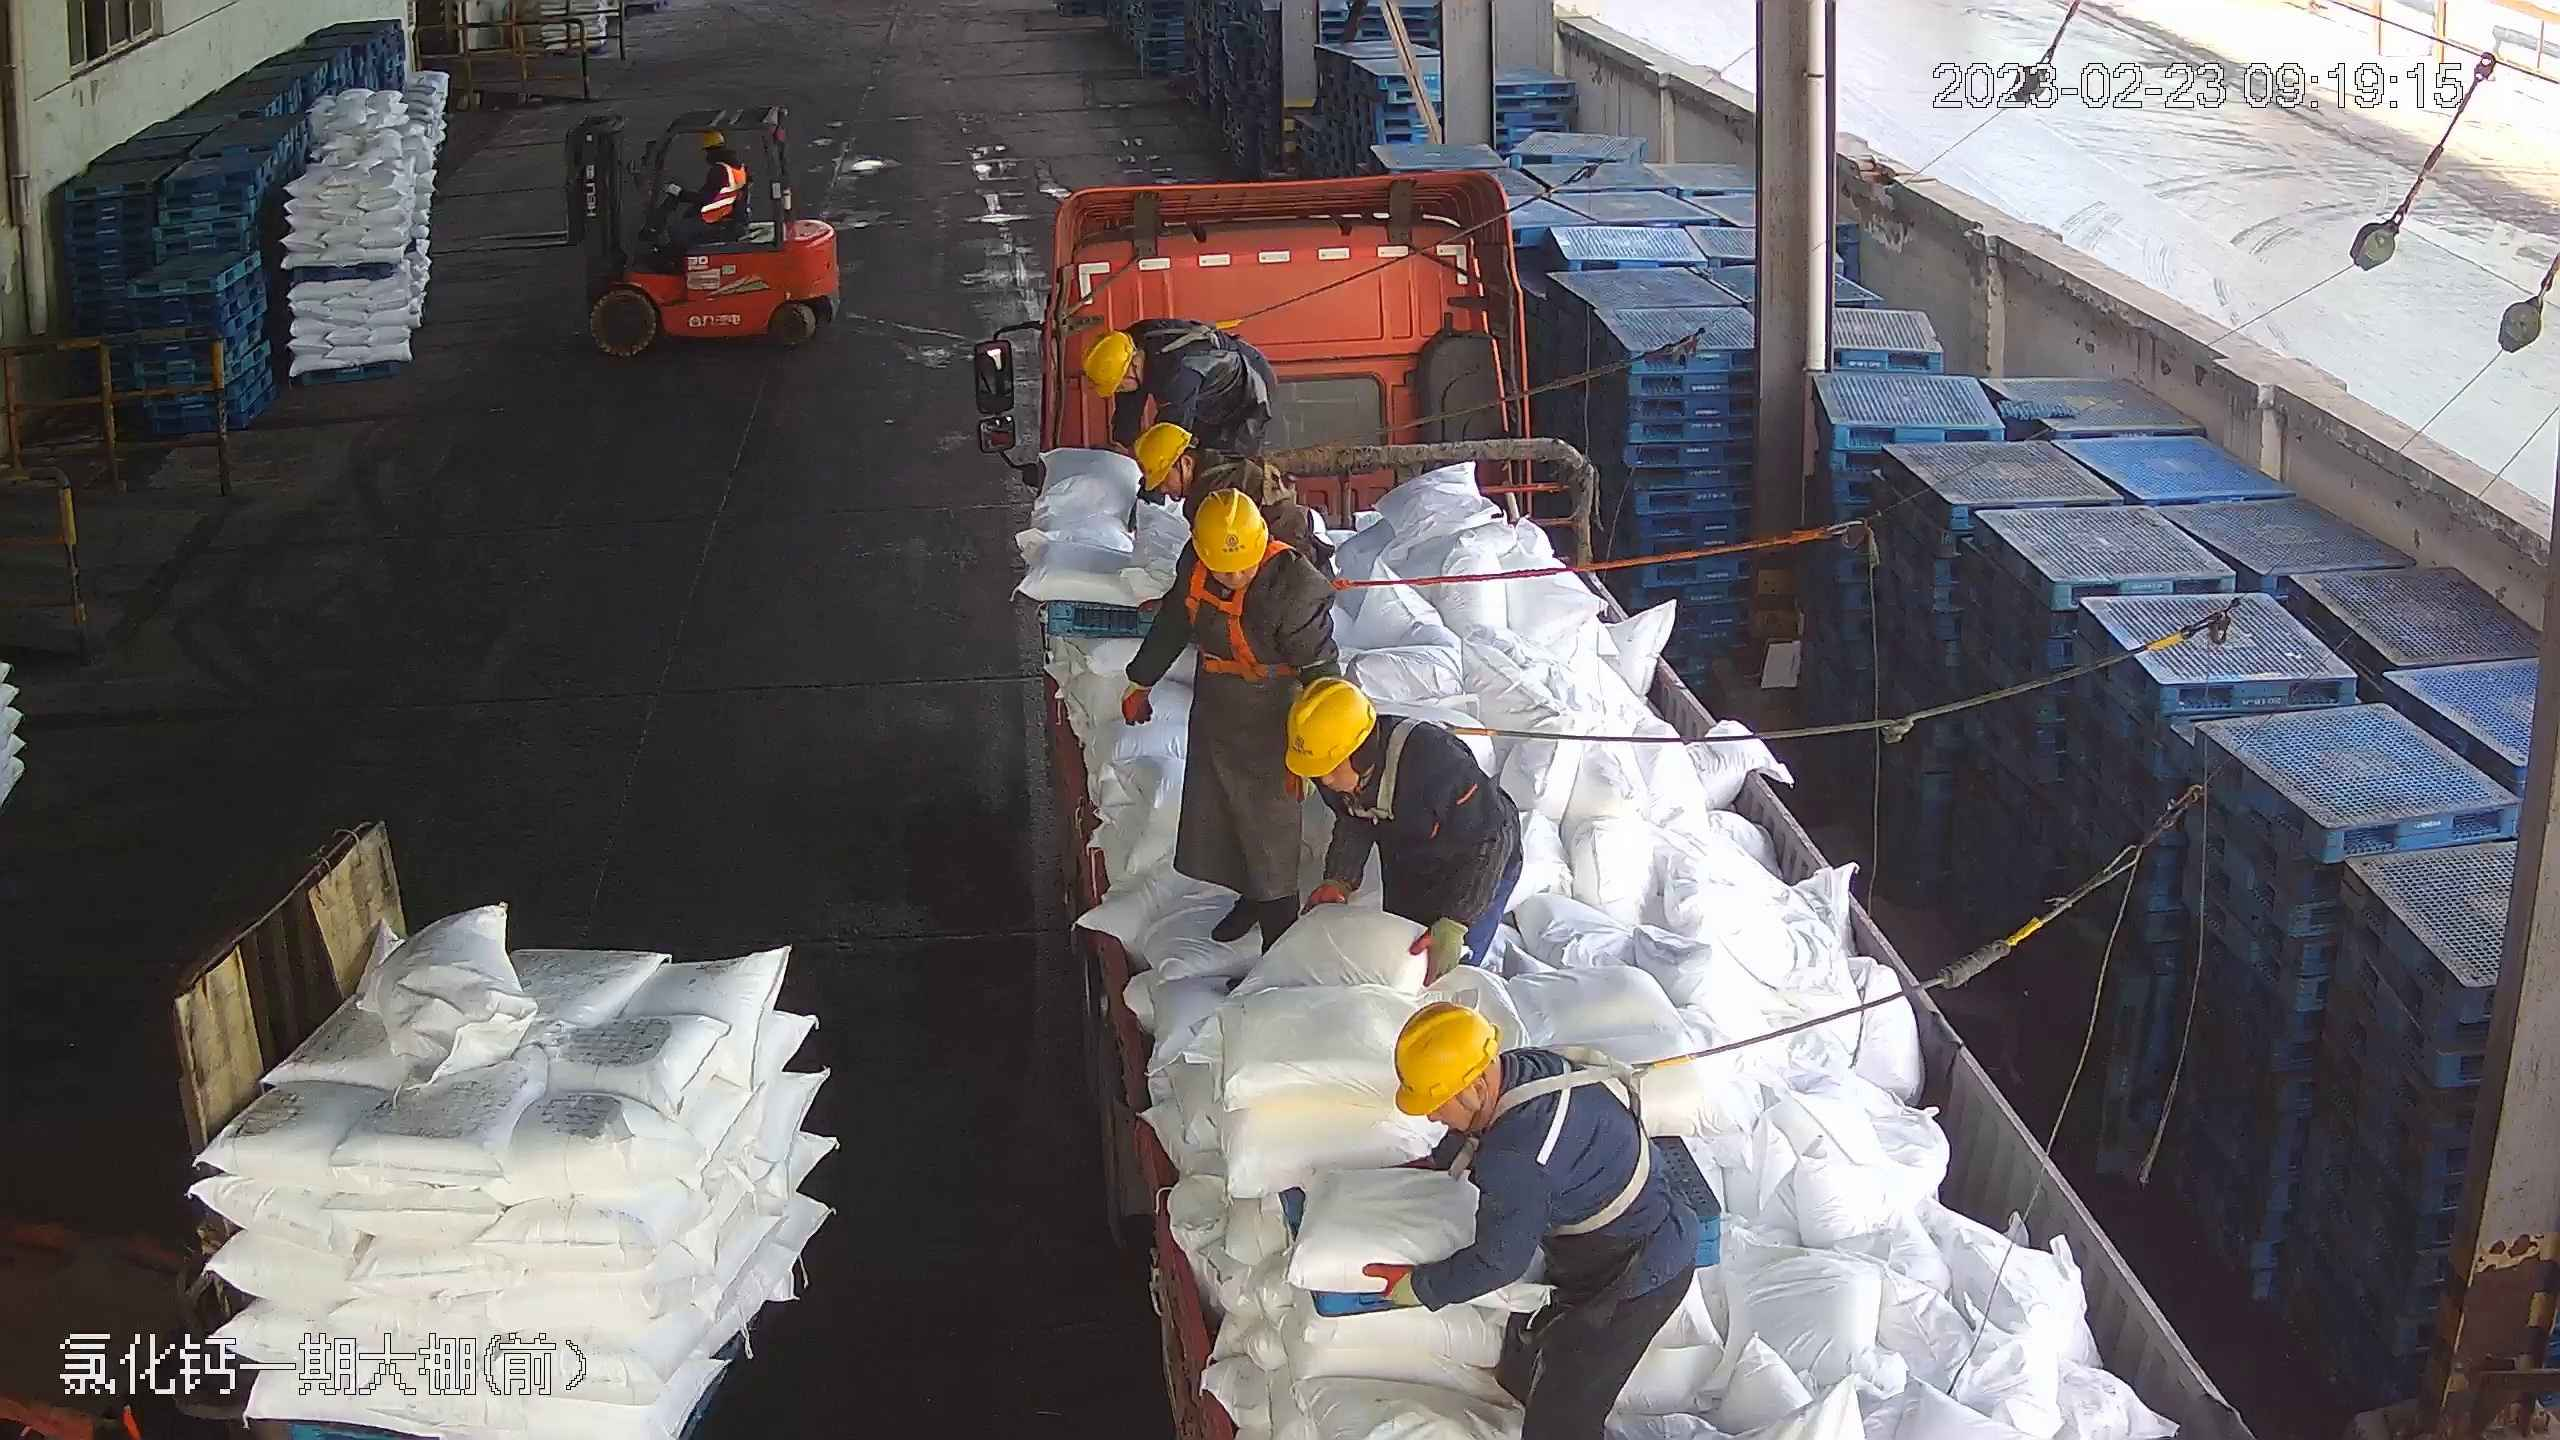belt: (1455, 1046, 1699, 1235), (1194, 549, 1367, 679), (1344, 714, 1509, 826), (1216, 447, 1309, 517), (1159, 313, 1242, 359)
head: (1389, 999, 1614, 1220), (1290, 678, 1465, 834), (1170, 488, 1325, 639), (1130, 421, 1259, 523), (1082, 327, 1213, 416), (689, 126, 739, 180)
helmet: (1396, 1002, 1501, 1114), (1285, 678, 1374, 781), (1190, 489, 1268, 570), (1132, 420, 1194, 491), (1079, 326, 1131, 397), (698, 126, 725, 149)
people: (1369, 998, 1682, 1440), (1120, 491, 1342, 953), (1285, 679, 1518, 988), (1085, 319, 1275, 457), (662, 126, 746, 238)
truck: (968, 162, 2262, 1429)
